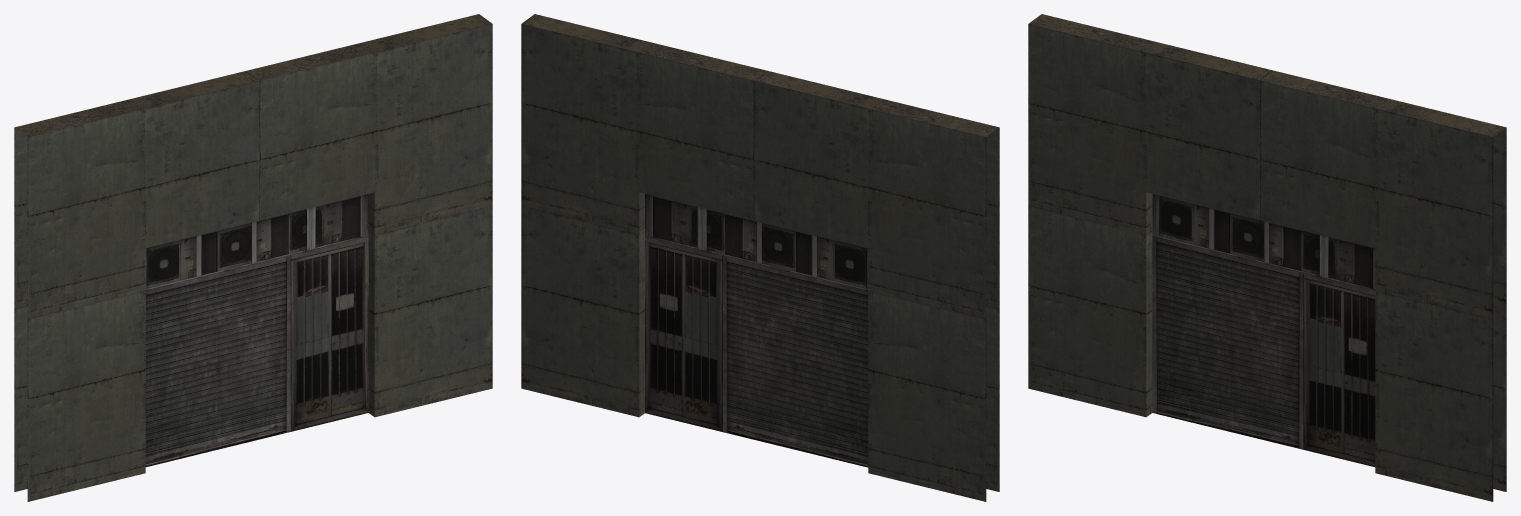
The model's file is garage_door_frame_rg_1.obj.
3 views of the same model, side by side, from view 1: azimuth 30°, elevation 25°; view 2: azimuth 150°, elevation 25°; view 3: azimuth 330°, elevation 25° (orthographic).
Visible parts, largest first — view 1: garage_door_frame_rg_1, garage_door_hr_1; view 2: garage_door_frame_rg_1, garage_door_hr_1; view 3: garage_door_frame_rg_1, garage_door_hr_1.
Boxes of the visible parts, x1,y1,x2,y2 form: garage_door_frame_rg_1: (14,14,492,501); garage_door_hr_1: (145,194,368,466); garage_door_frame_rg_1: (521,14,999,501); garage_door_hr_1: (645,194,868,467); garage_door_frame_rg_1: (1028,14,1506,501); garage_door_hr_1: (1152,194,1375,466).
Bounding box in the file's own units: 8 × 6 × 0.4.
